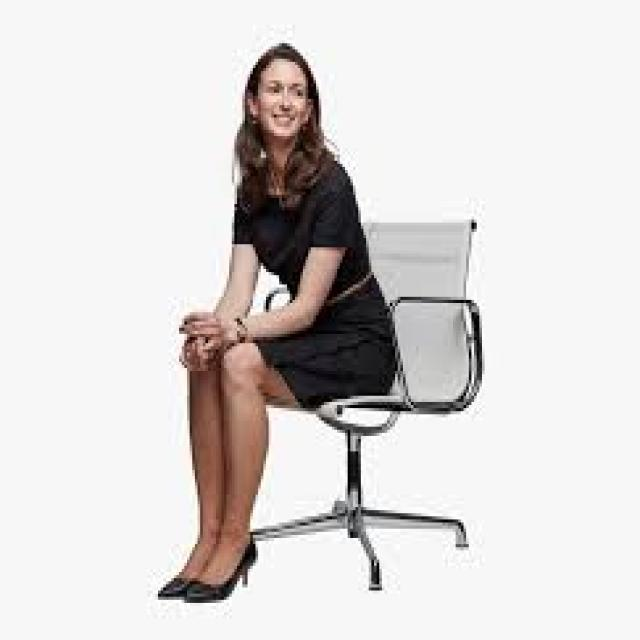nonfall: (146, 26, 378, 605)
